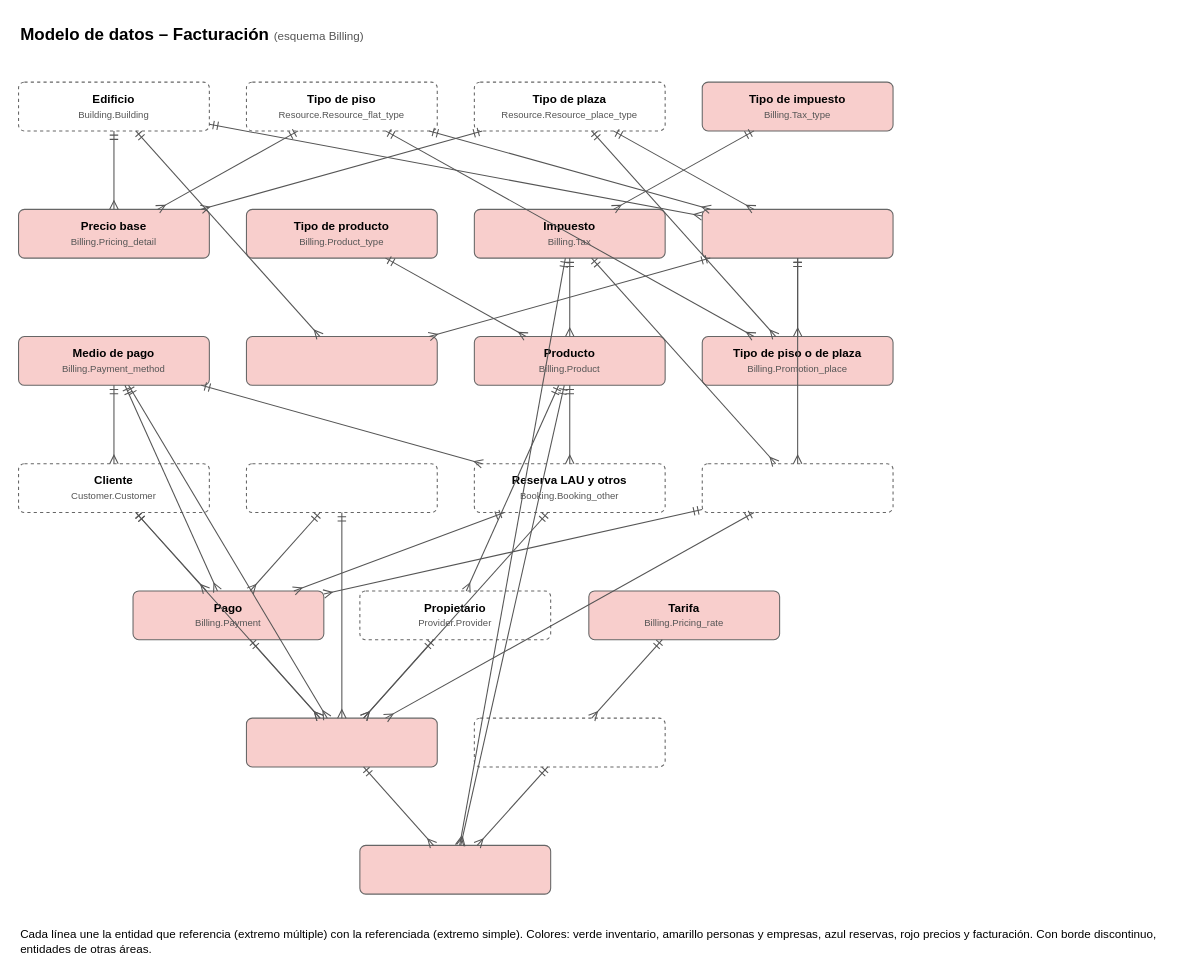
This 1203x975 diagram has some shape labels left out. The shapes that lost their labels are listed below. From the top down, each one's centre as x and y in pixels, then its label:
the point at 797,233: Promoción Billing.Promotion
the point at 341,360: Edificio Billing.Promotion_building
the point at 341,488: Reserva B2B Booking.Booking_group
the point at 797,488: Reserva B2C Booking.Booking
the point at 341,742: Factura Billing.Invoice
the point at 569,742: Recurso Resource.Resource
the point at 455,869: Línea de factura Billing.Invoice_line
